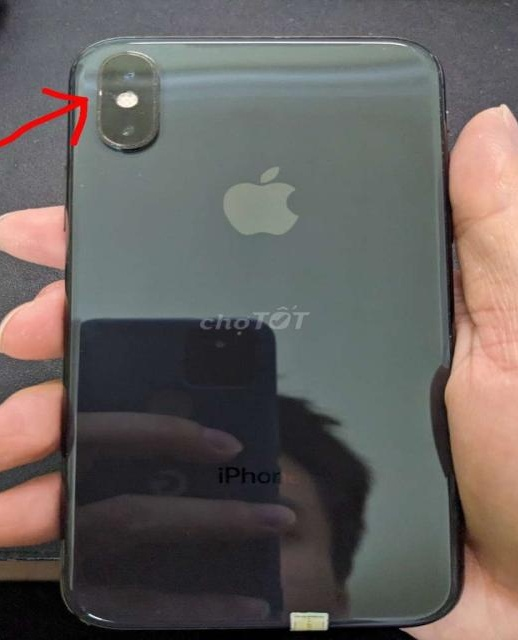scratch: (96, 46, 174, 166), (371, 30, 459, 119), (261, 30, 320, 56), (66, 165, 103, 201), (436, 319, 465, 355), (118, 163, 157, 188)
